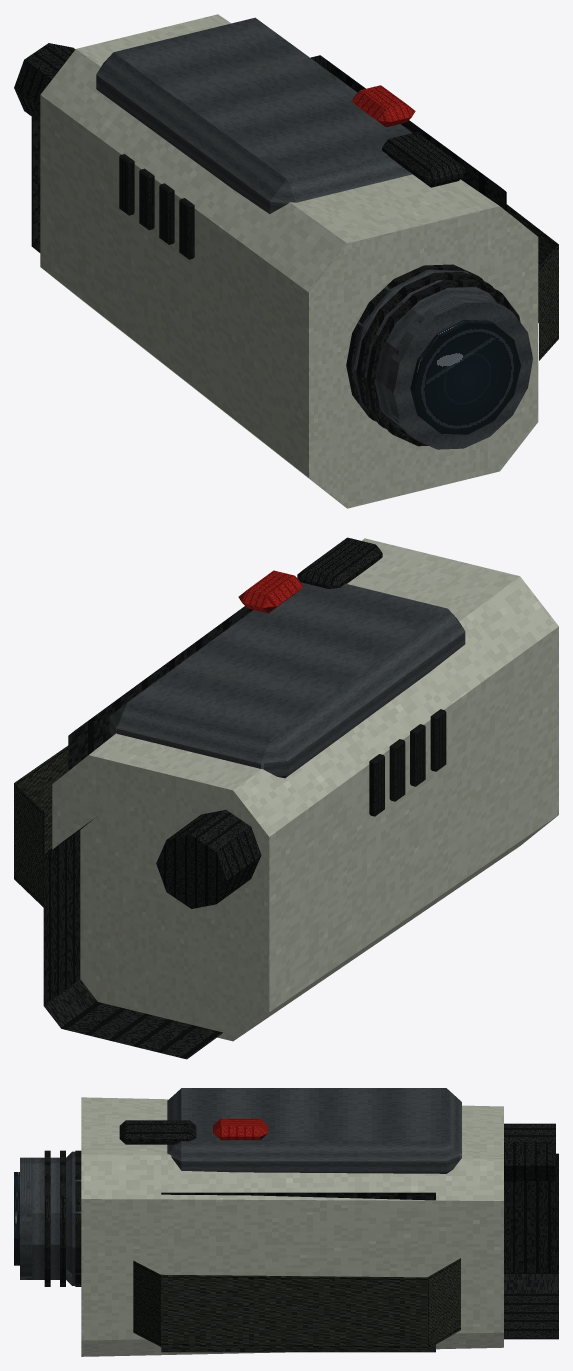
File: blender_video_camera_1.glb
3 renders of one model, top to bottom at view 1: azimuth 30°, elevation 25°; view 2: azimuth 150°, elevation 25°; view 3: azimuth 270°, elevation 25°, orthographic. The views are drawn at different scales.
Parts seen in each view (by area): view 1: blender_video_camera_1; view 2: blender_video_camera_1; view 3: blender_video_camera_1.
Part boxes in pixels (x1,y1,x2,y2): blender_video_camera_1: (14, 14, 558, 508); blender_video_camera_1: (14, 537, 558, 1059); blender_video_camera_1: (14, 1088, 558, 1356).
Size of the model in its own units: 0.0905 by 0.0828 by 0.178.
Materials: 6 (6 with a texture image).
